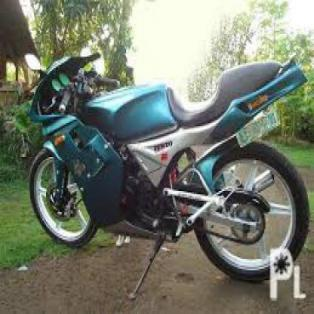Motocicleta: (15, 37, 313, 282)
